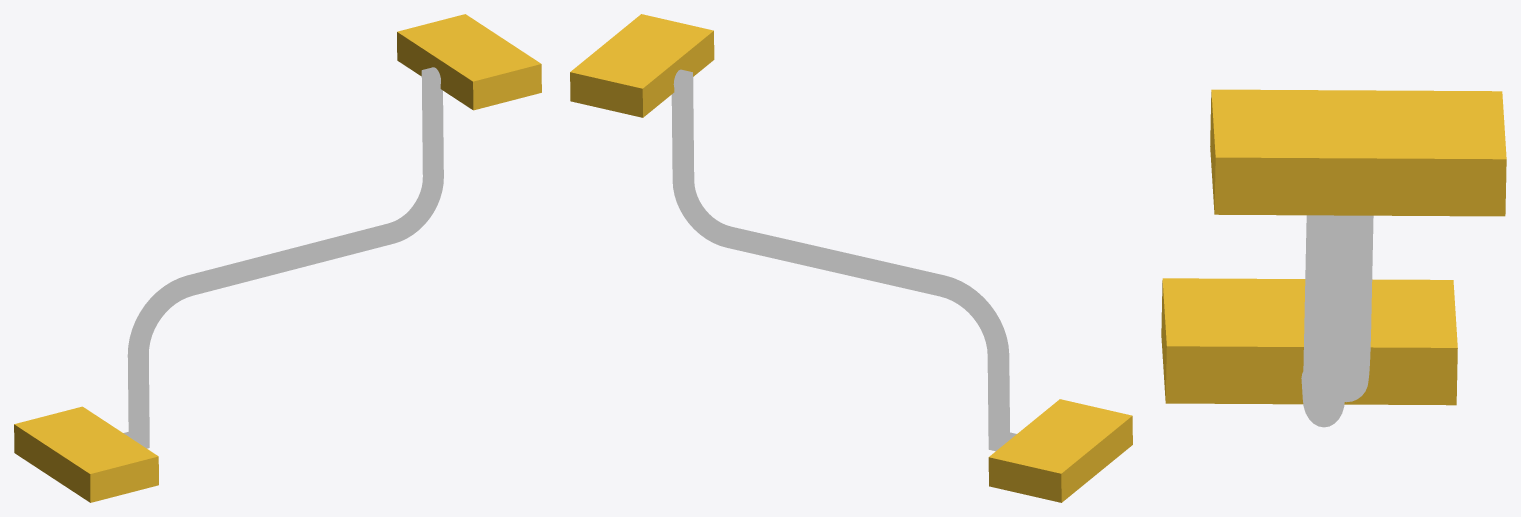
File: pedalesTriciclo.obj
3 views of the same model, side by side, from view 1: azimuth 30°, elevation 25°; view 2: azimuth 150°, elevation 25°; view 3: azimuth 270°, elevation 25° (orthographic). The views are drawn at different scales.
Parts seen in each view (by area): view 1: pedales, pedales001, pedales002; view 2: pedales, pedales001, pedales002; view 3: pedales002, pedales001, pedales.
Part boxes in pixels (left/top/right/bottom): pedales: left=123, top=67, right=443, bottom=448; pedales001: left=14, top=406, right=158, bottom=502; pedales002: left=397, top=14, right=541, bottom=110; pedales: left=671, top=69, right=1016, bottom=451; pedales001: left=988, top=399, right=1132, bottom=502; pedales002: left=570, top=14, right=714, bottom=117; pedales002: left=1210, top=89, right=1506, bottom=216; pedales001: left=1161, top=278, right=1457, bottom=405; pedales: left=1301, top=215, right=1373, bottom=427.
Size of the model in its own units: 51.34 by 33.36 by 16.4.
Materials: 2 (2 with a texture image).
